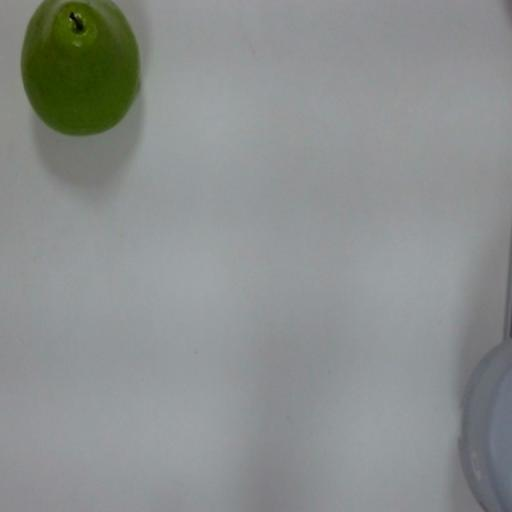Unripe: (14, 1, 153, 152)
